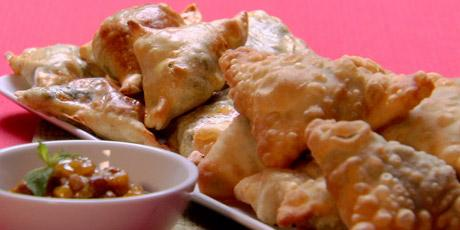samosa: (218, 47, 434, 167), (219, 47, 434, 167), (128, 12, 248, 129)
